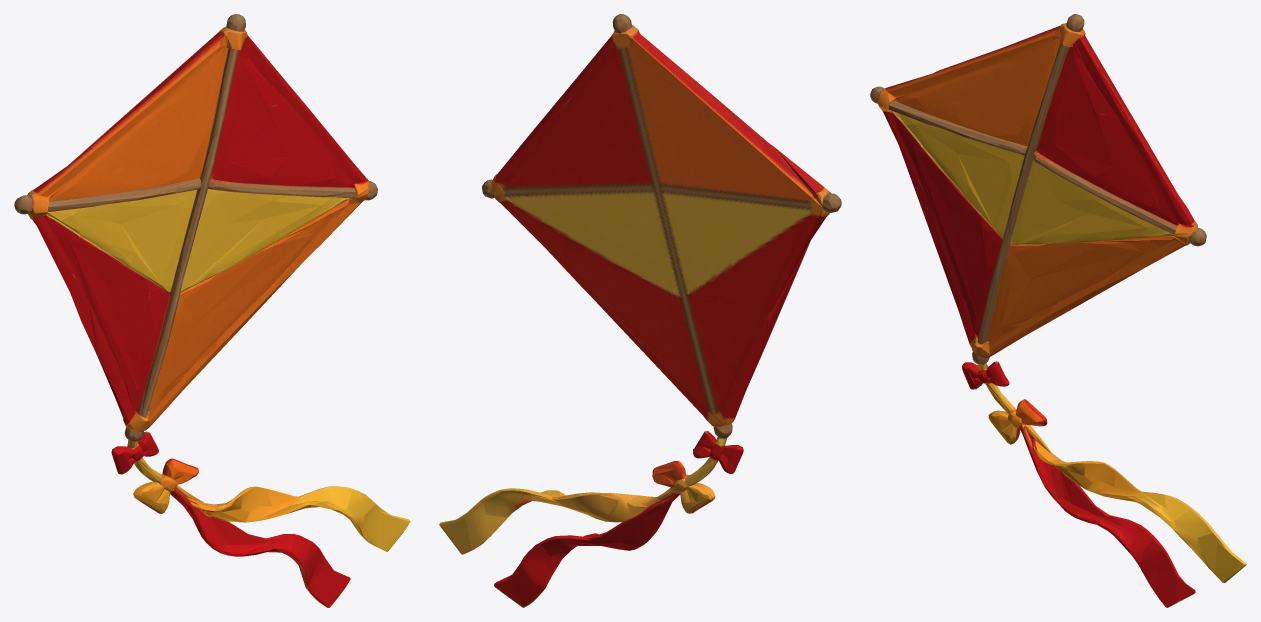
Rendered from kite.glb.
The picture shows the model from 3 angles, left to right: view 1: azimuth 30°, elevation 25°; view 2: azimuth 150°, elevation 25°; view 3: azimuth 330°, elevation 25°; orthographic projection. The views are drawn at different scales.
Visible parts, largest first — view 1: output_unwrapped; view 2: output_unwrapped; view 3: output_unwrapped.
Part boxes in pixels (box(x1,y1,x2,y2)): output_unwrapped: box(14, 14, 410, 607); output_unwrapped: box(439, 14, 841, 607); output_unwrapped: box(870, 14, 1246, 607).
Size of the model in its own units: 1.28 by 1.9 by 0.1107.
1 material, 1 textured.
